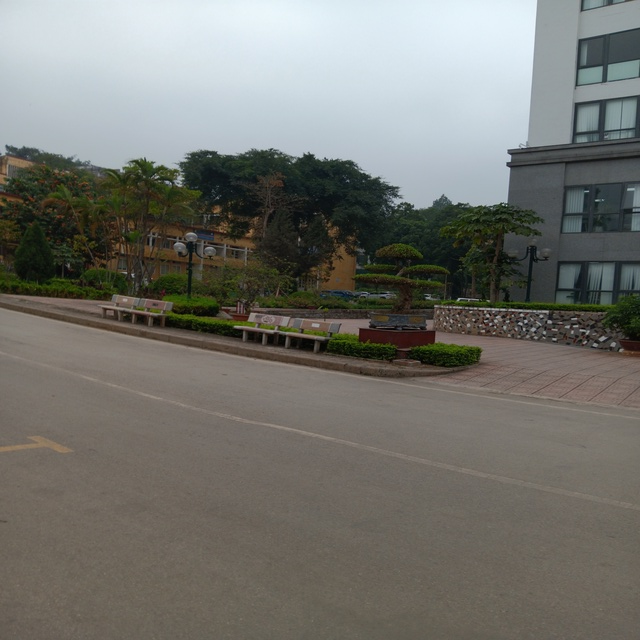gheda: (284, 319, 350, 355), (233, 308, 290, 349), (128, 294, 174, 328), (100, 287, 139, 322)
